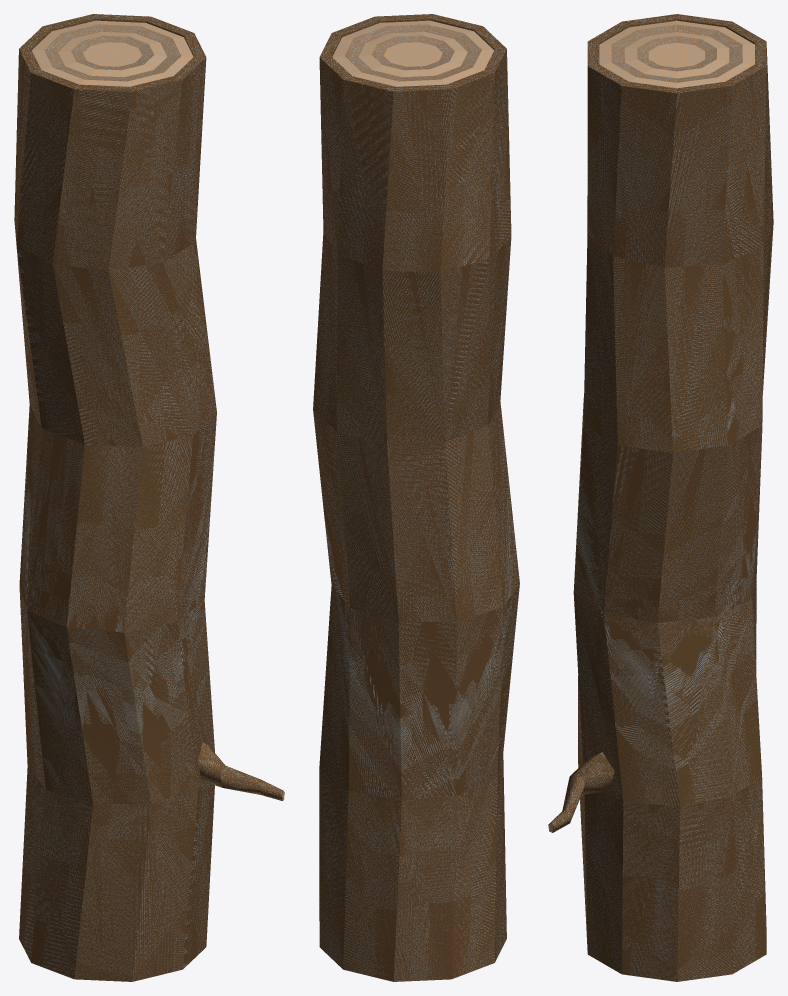
File: log.fbx
3 renders of one model, left to right at view 1: azimuth 30°, elevation 25°; view 2: azimuth 150°, elevation 25°; view 3: azimuth 270°, elevation 25°, orthographic.
Visible parts, largest first — view 1: ID3 (×2), ID73 (×2), ID97 (×2), ID121, ID81, ID89, ID113; view 2: ID3 (×2), ID73 (×2), ID97 (×2), ID81, ID89, ID113; view 3: ID3 (×2), ID73 (×2), ID97 (×2), ID121 (×2), ID81 (×2), ID89, ID113.
Boxes of the visible parts, x1,y1,x2,y2 form: ID3 (×2): [14, 14, 216, 981]; ID73 (×2): [44, 24, 181, 81]; ID97 (×2): [32, 20, 193, 86]; ID121: [197, 741, 284, 800]; ID81: [58, 31, 167, 77]; ID89: [71, 35, 154, 70]; ID113: [83, 42, 141, 66]; ID3 (×2): [313, 14, 519, 981]; ID73 (×2): [344, 24, 481, 81]; ID97 (×2): [332, 20, 493, 86]; ID81: [358, 31, 467, 77]; ID89: [371, 35, 454, 70]; ID113: [384, 42, 442, 66]; ID3 (×2): [573, 14, 773, 981]; ID73 (×2): [611, 24, 742, 82]; ID97 (×2): [599, 20, 754, 88]; ID121 (×2): [548, 752, 614, 832]; ID81 (×2): [625, 32, 729, 78]; ID89: [637, 36, 716, 71]; ID113: [648, 42, 705, 67].
Bounding box in the file's own units: 21.66 × 92.95 × 21.36.
